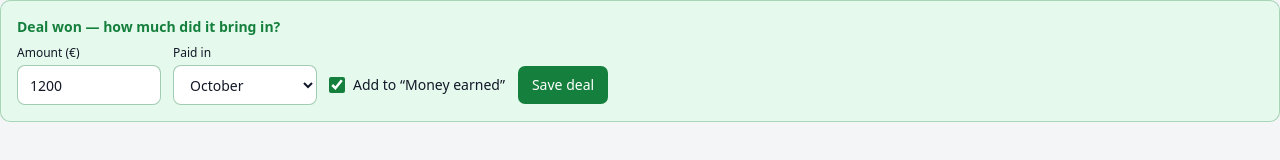
Test: WonPanel › pre-fills the deal value and this month, and saves
Expected: the field labelled "Amount (€)" holds "1200", [17,65,161,105]
Expected: the dropdown labelled "Paid in" shows "October", [173,65,317,105]
Step 1. Click the button "Save deal" → (563, 85), box [517,65,609,105]
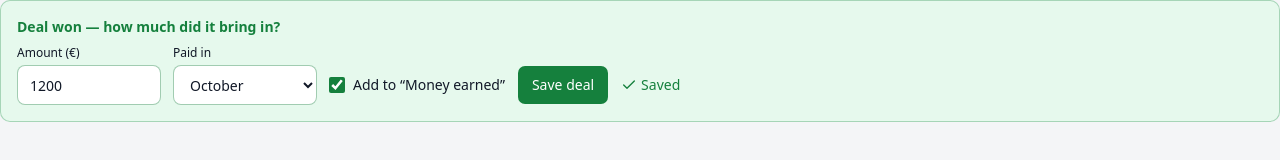
Now the message reads "Saved", box [641,75,680,94]
